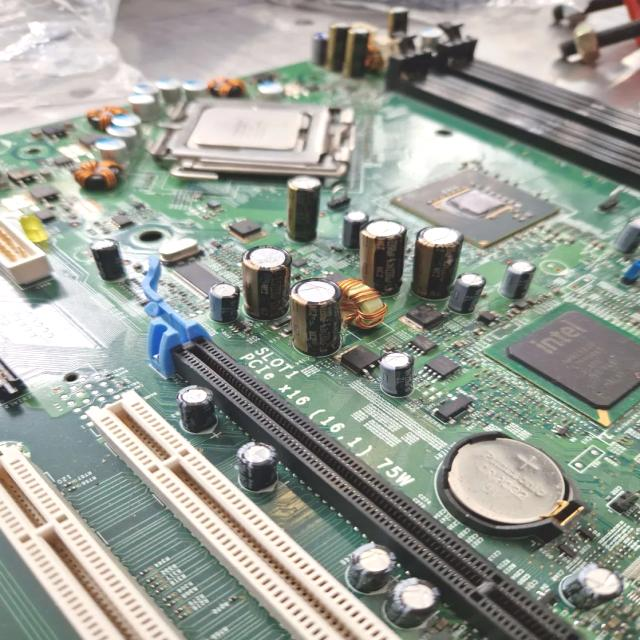A: (339, 278, 385, 332), (74, 159, 126, 190), (88, 106, 126, 130), (209, 76, 244, 98)
C: (243, 246, 291, 318), (293, 278, 339, 352), (359, 220, 403, 294), (417, 224, 462, 294), (562, 565, 620, 609), (387, 578, 438, 628), (288, 176, 320, 243), (349, 544, 393, 592), (176, 385, 216, 431), (237, 443, 274, 489), (90, 238, 125, 280), (449, 273, 483, 313), (382, 354, 412, 396), (344, 28, 368, 80), (500, 262, 534, 298), (327, 22, 347, 72), (343, 212, 368, 248), (617, 216, 640, 253)
